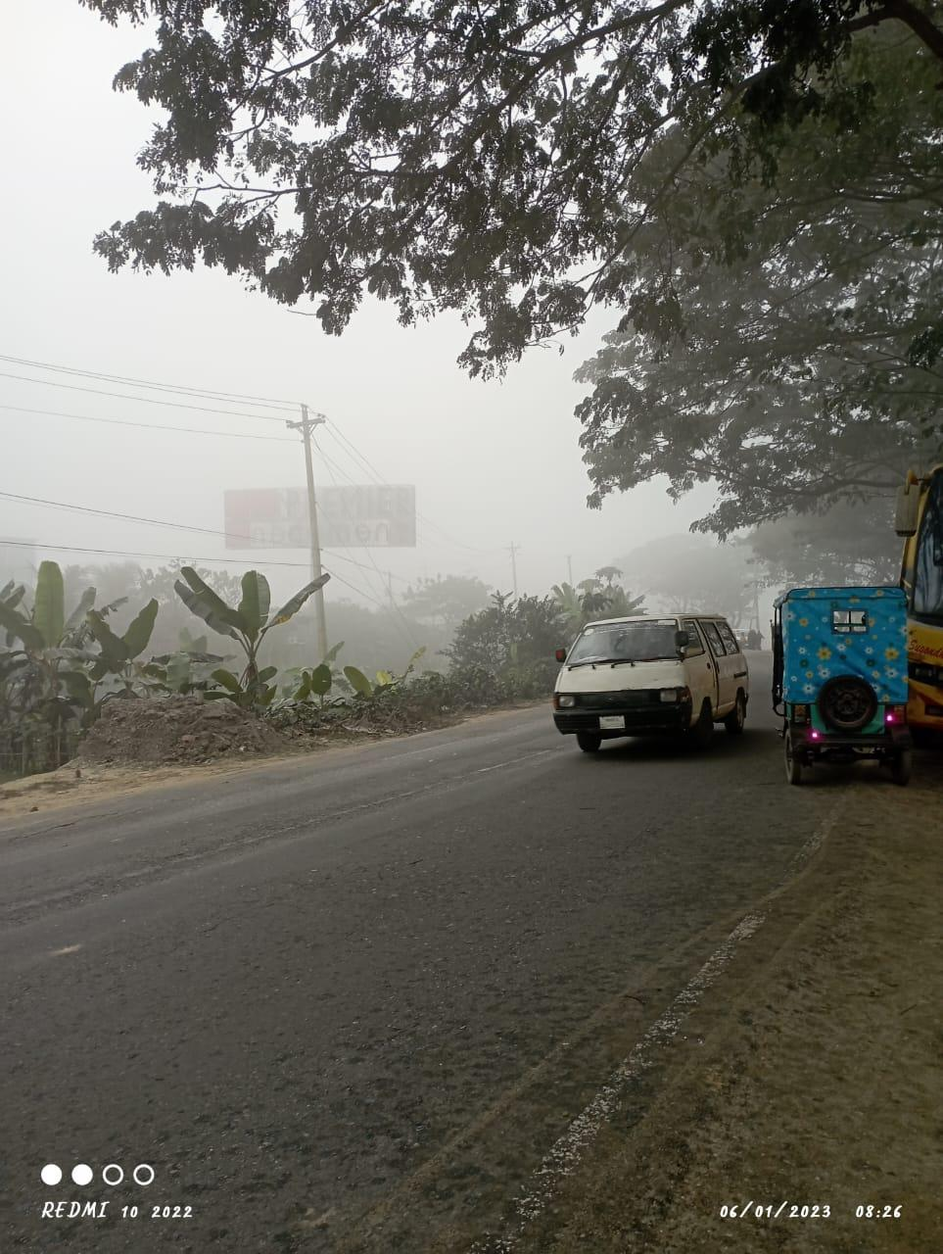Car: (758, 573, 924, 804), (534, 601, 765, 751)
